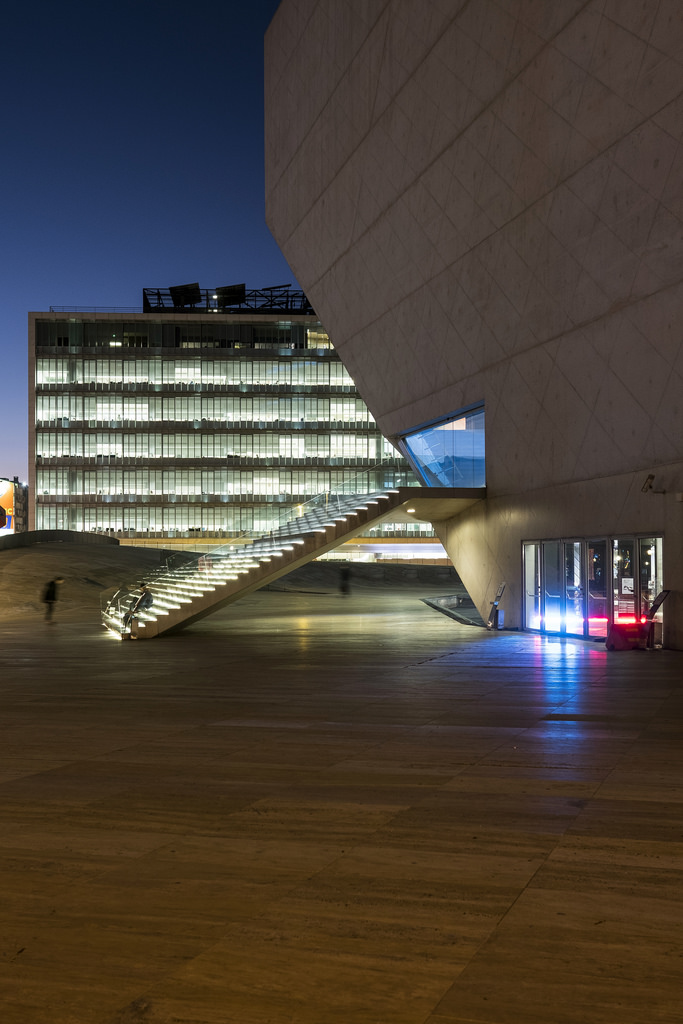musica: (264, 0, 682, 653)
